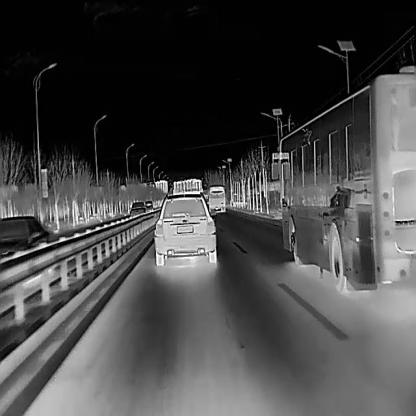bus: (270, 62, 415, 293), (207, 184, 224, 212)
car: (152, 189, 217, 265), (0, 215, 60, 277), (129, 201, 144, 221), (144, 200, 152, 214)
